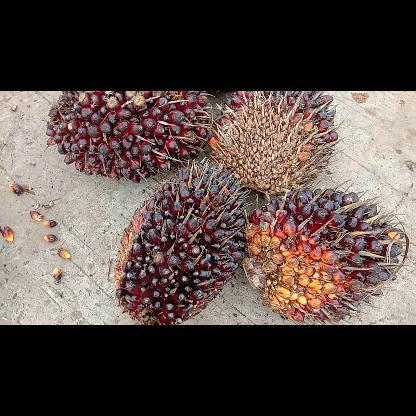TBS mentah: (244, 180, 408, 322), (113, 160, 250, 324), (44, 90, 214, 182), (207, 91, 343, 195)
